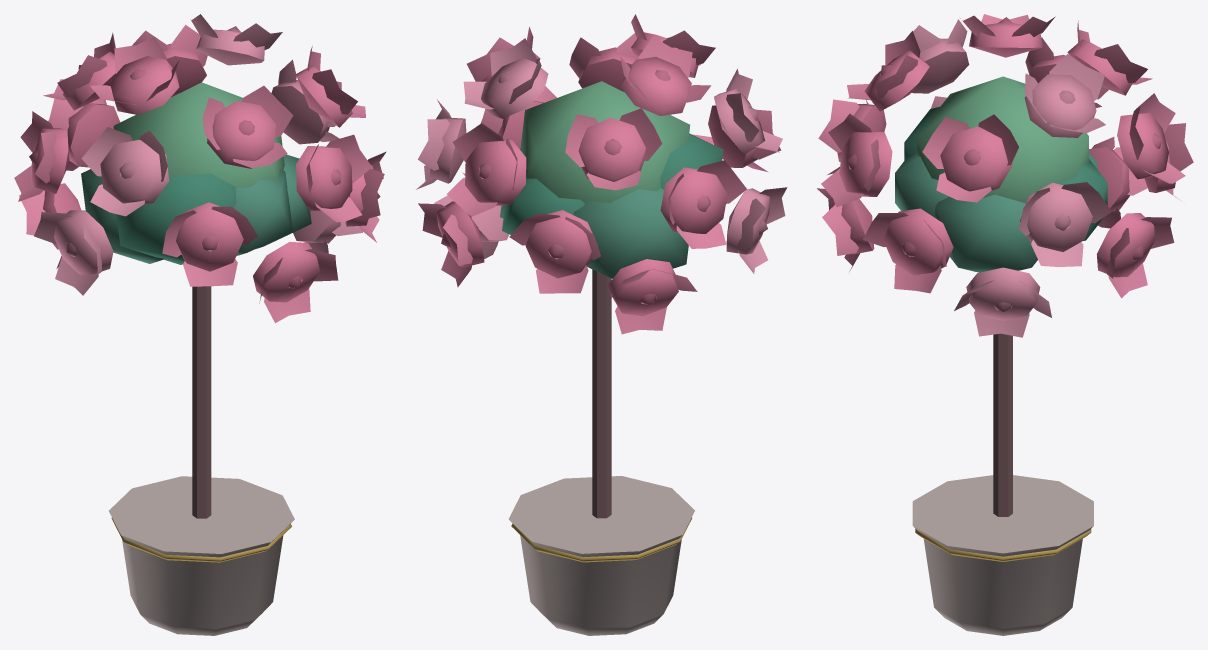
Rendered from rose_standard_pink.glb.
3 renders of one model, left to right at view 1: azimuth 30°, elevation 25°; view 2: azimuth 150°, elevation 25°; view 3: azimuth 270°, elevation 25°, orthographic.
Visible parts, largest first — view 1: rose_standard_pink; view 2: rose_standard_pink; view 3: rose_standard_pink.
Part boxes in pixels (x1,y1,x2,y2): rose_standard_pink: [14, 14, 386, 635]; rose_standard_pink: [416, 14, 787, 635]; rose_standard_pink: [817, 14, 1193, 635].
Size of what is drawn, in the model's own units: 1.43 by 2.43 by 1.44.
